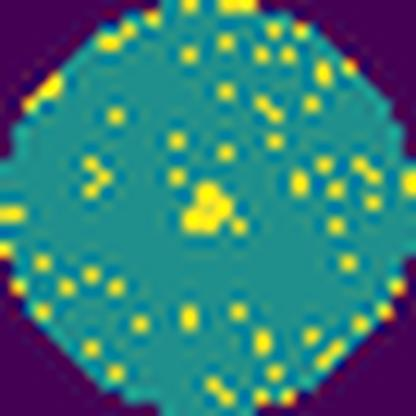Center: (181, 182, 254, 250)
